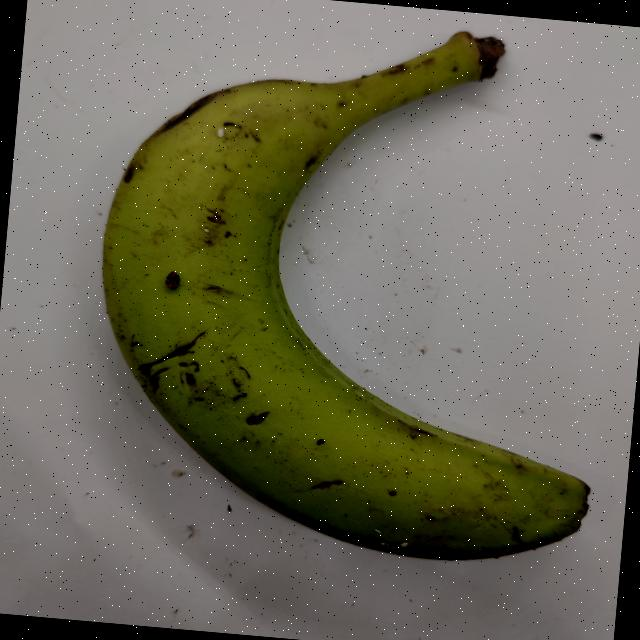Raw: (53, 0, 640, 585)
